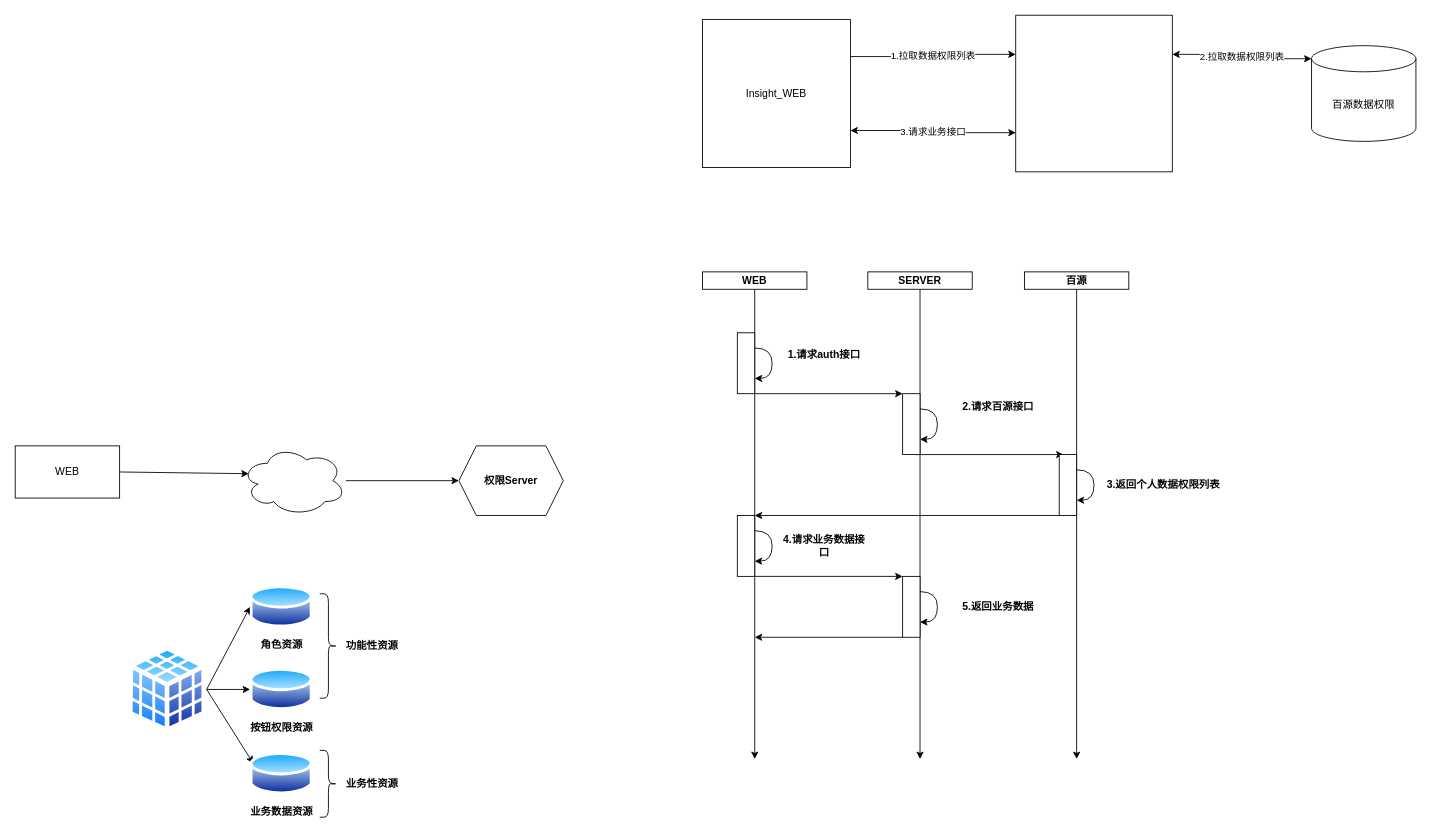
This 1431x833 diagram has some shape labels left out. Here are the shapes that lost their labels. From the top down, the box of each, then its label:
(1015, 14, 1172, 172): Insight_SERVER
(241, 445, 346, 515): gateWay
(128, 646, 206, 733): 资源
